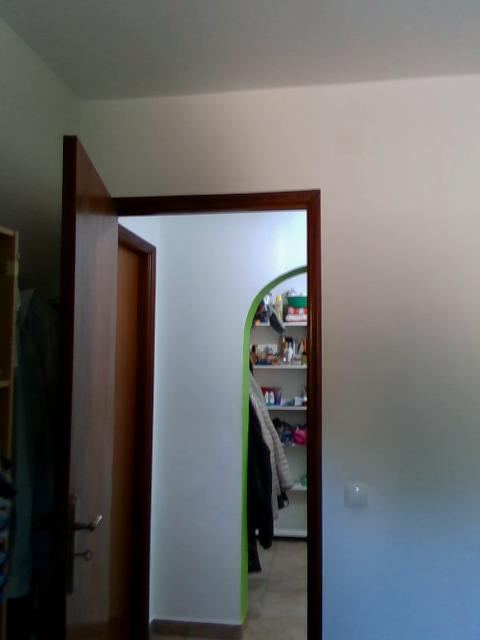open_door: (101, 186, 321, 639)
